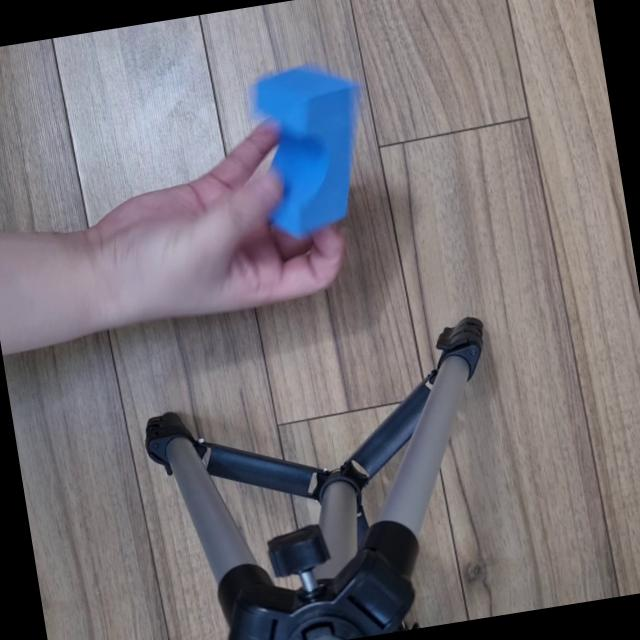block: (238, 46, 380, 250)
hand: (79, 115, 366, 372)
